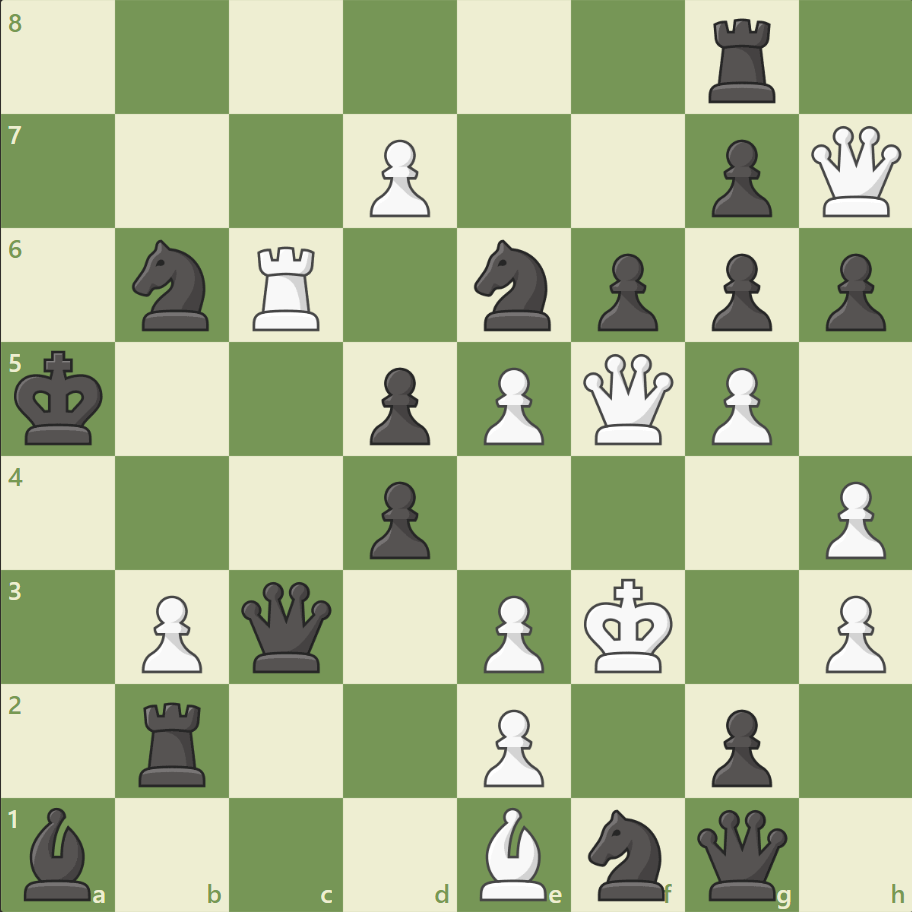B: (471, 801, 555, 904)
K: (579, 571, 679, 679)
P: (474, 359, 549, 450), (701, 359, 776, 450), (133, 586, 208, 677), (474, 586, 549, 677), (474, 700, 549, 791), (361, 132, 435, 223), (815, 473, 889, 564), (815, 586, 889, 677)
Q: (805, 122, 904, 222), (578, 349, 677, 449)
R: (246, 239, 329, 336)
b: (17, 801, 101, 904)
k: (11, 344, 111, 452)
n: (124, 234, 222, 337), (465, 234, 562, 337), (579, 802, 676, 904)
p: (701, 132, 776, 223), (701, 246, 776, 337), (701, 700, 776, 791), (588, 246, 662, 337), (815, 246, 889, 337), (361, 359, 435, 450), (361, 473, 435, 564)
q: (237, 576, 336, 676), (691, 804, 790, 903)
r: (700, 12, 783, 109), (133, 693, 215, 790)
